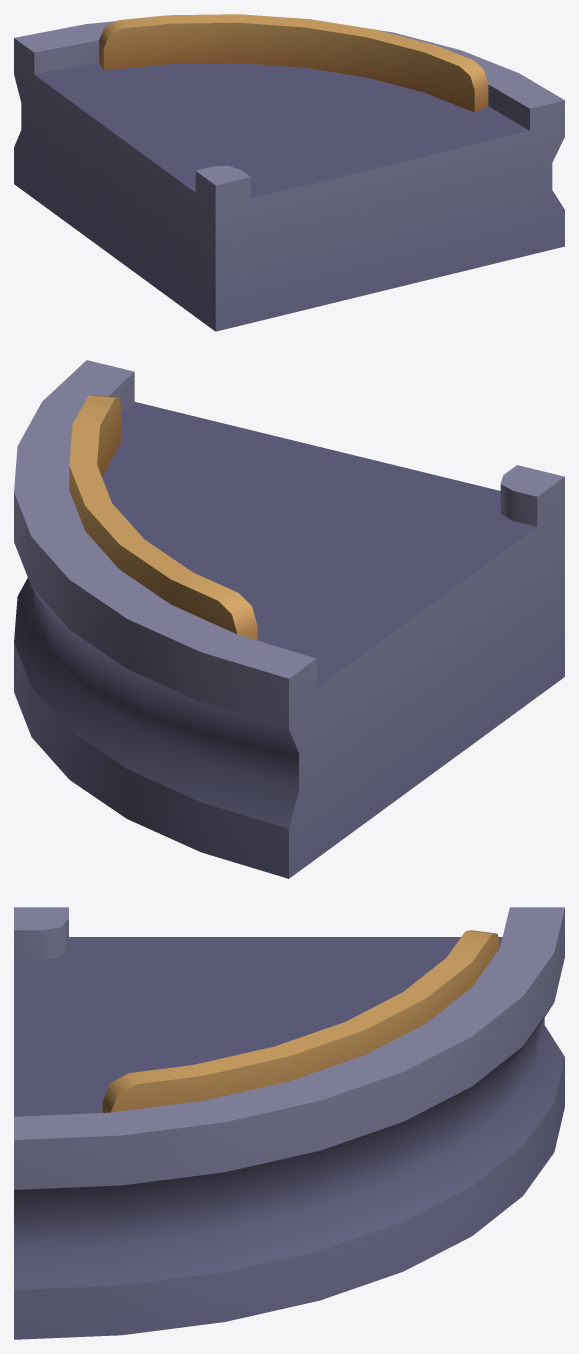
The model's file is conveyor-corner.glb.
3 views of the same model, one above another, from view 1: azimuth 30°, elevation 25°; view 2: azimuth 150°, elevation 25°; view 3: azimuth 270°, elevation 25° (orthographic). The views are drawn at different scales.
Parts seen in each view (by area): view 1: conveyor-corner; view 2: conveyor-corner; view 3: conveyor-corner.
Part boxes in pixels (x1,y1,x2,y2): conveyor-corner: (14, 14, 564, 331); conveyor-corner: (14, 360, 564, 878); conveyor-corner: (14, 907, 564, 1339).
Size of the model in its own units: 1 by 0.45 by 1.
